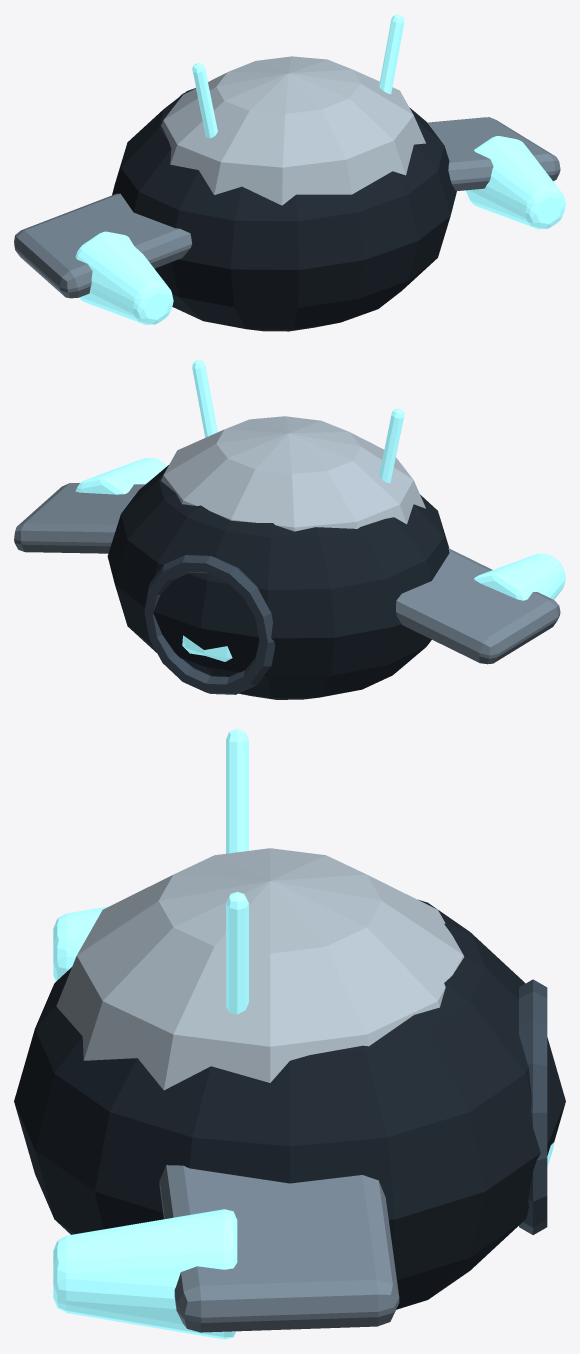
Rendered from drone.glb.
The picture shows the model from 3 angles, top to bottom: view 1: azimuth 30°, elevation 25°; view 2: azimuth 150°, elevation 25°; view 3: azimuth 270°, elevation 25°; orthographic projection. The views are drawn at different scales.
Visible parts, largest first — view 1: DroneCore, ArmoredCowl, Wing_-1, Thruster_-1, Thruster_1, Wing_1, Antenna_1, Antenna_-1; view 2: DroneCore, ArmoredCowl, Wing_-1, OpticGuard, Wing_1, Thruster_-1, Thruster_1, Antenna_1, Antenna_-1, Optic; view 3: DroneCore, ArmoredCowl, Wing_1, Thruster_1, OpticGuard, Antenna_-1, Antenna_1, Thruster_-1.
Part boxes in pixels (box(x1,y1,x2,y2)): DroneCore: box(112, 88, 456, 331); ArmoredCowl: box(161, 56, 425, 205); Wing_-1: box(14, 193, 192, 298); Thruster_-1: box(75, 231, 173, 324); Thruster_1: box(465, 136, 565, 229); Wing_1: box(427, 117, 560, 191); Antenna_1: box(379, 14, 404, 94); Antenna_-1: box(192, 63, 217, 138); DroneCore: box(107, 465, 449, 699); ArmoredCowl: box(161, 416, 425, 531); Wing_-1: box(396, 548, 560, 664); OpticGuard: box(144, 555, 274, 694); Wing_1: box(14, 483, 145, 553); Thruster_-1: box(474, 553, 565, 600); Thruster_1: box(75, 457, 166, 494); Antenna_1: box(192, 360, 217, 437); Antenna_-1: box(379, 408, 404, 482); Optic: box(182, 635, 232, 661); DroneCore: box(14, 899, 565, 1309); ArmoredCowl: box(56, 848, 464, 1090); Wing_1: box(159, 1165, 399, 1332); Thruster_1: box(53, 1209, 237, 1339); OpticGuard: box(519, 979, 547, 1234); Antenna_-1: box(226, 728, 248, 853); Antenna_1: box(226, 892, 248, 1014); Thruster_-1: box(53, 906, 108, 981).
Size of the model in its own units: 1.47 by 0.8072 by 0.84.
